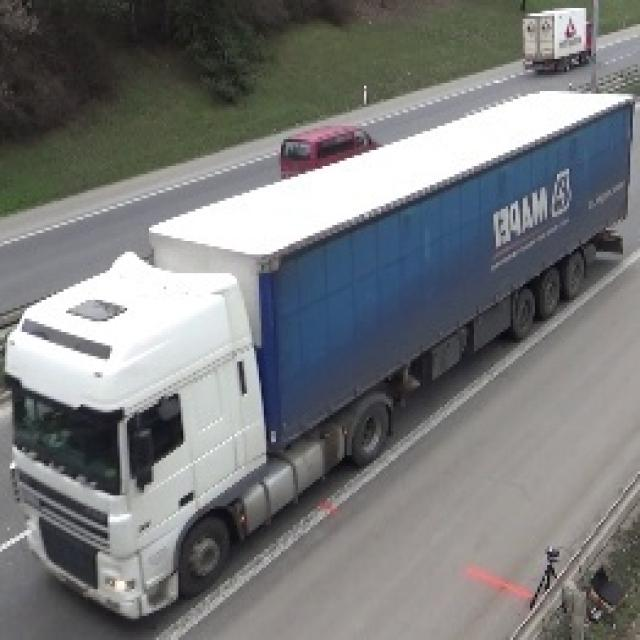TRUCK: (11, 128, 634, 632), (525, 8, 596, 67)
